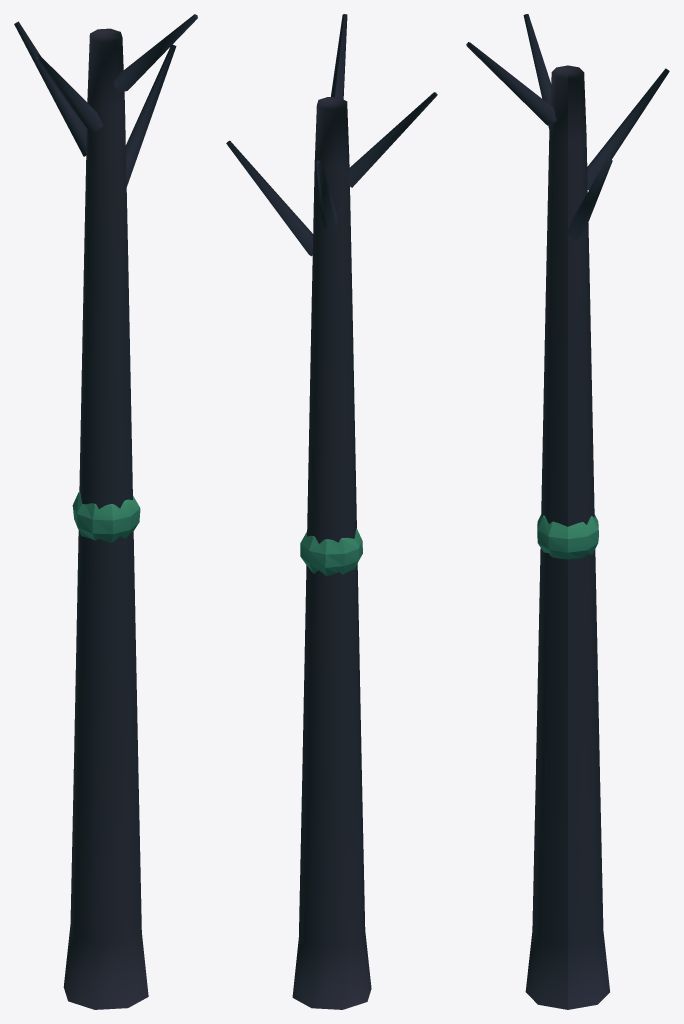
Rendered from lumenwood.glb.
The picture shows the model from 3 angles, left to right: view 1: azimuth 30°, elevation 25°; view 2: azimuth 150°, elevation 25°; view 3: azimuth 270°, elevation 25°; orthographic projection. The views are drawn at different scales.
Parts seen in each view (by area): view 1: LumenTrunk, LumenBlob; view 2: LumenTrunk, LumenBlob; view 3: LumenTrunk, LumenBlob.
Part boxes in pixels (x1,y1,x2,y2): LumenTrunk: (14,14,197,1009); LumenBlob: (72,491,140,543); LumenTrunk: (226,14,437,1009); LumenBlob: (300,528,362,576); LumenTrunk: (466,14,669,1009); LumenBlob: (537,514,598,559).
Size of the model in its own units: 6.02 by 31.55 by 6.02.
